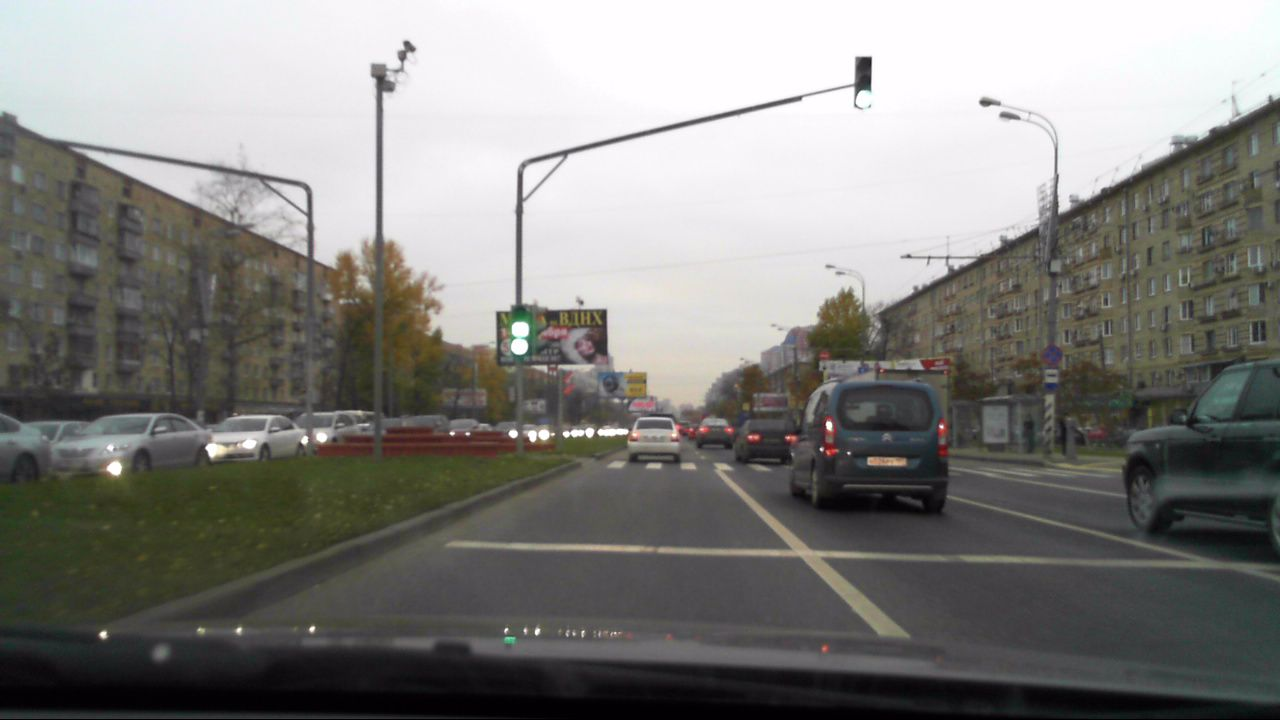No Parking: (1041, 345, 1062, 365)
